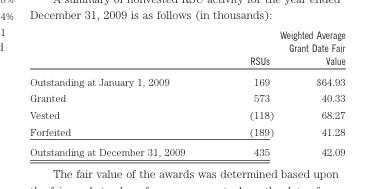table: (29, 28, 344, 157)
table column: (29, 28, 216, 157), (276, 28, 344, 157), (216, 28, 276, 157)
table column header: (29, 28, 344, 70)
table row: (29, 28, 344, 70), (29, 70, 344, 89), (29, 122, 344, 141), (29, 89, 344, 106), (29, 106, 344, 122), (29, 141, 344, 157)
